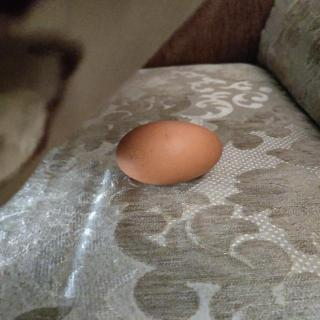Telur: (115, 121, 229, 189)
